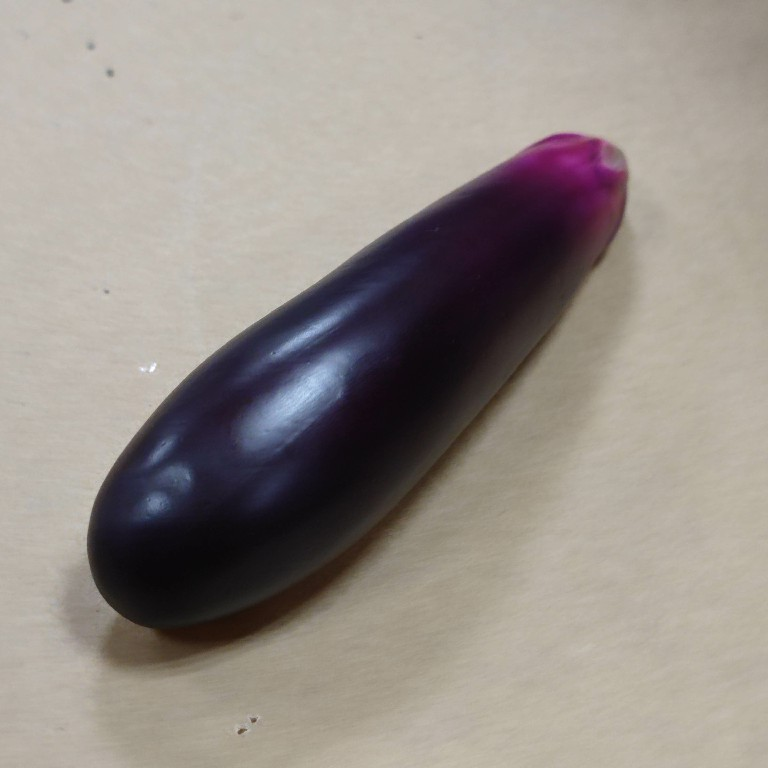fruit_eggplant: (80, 126, 633, 637)
